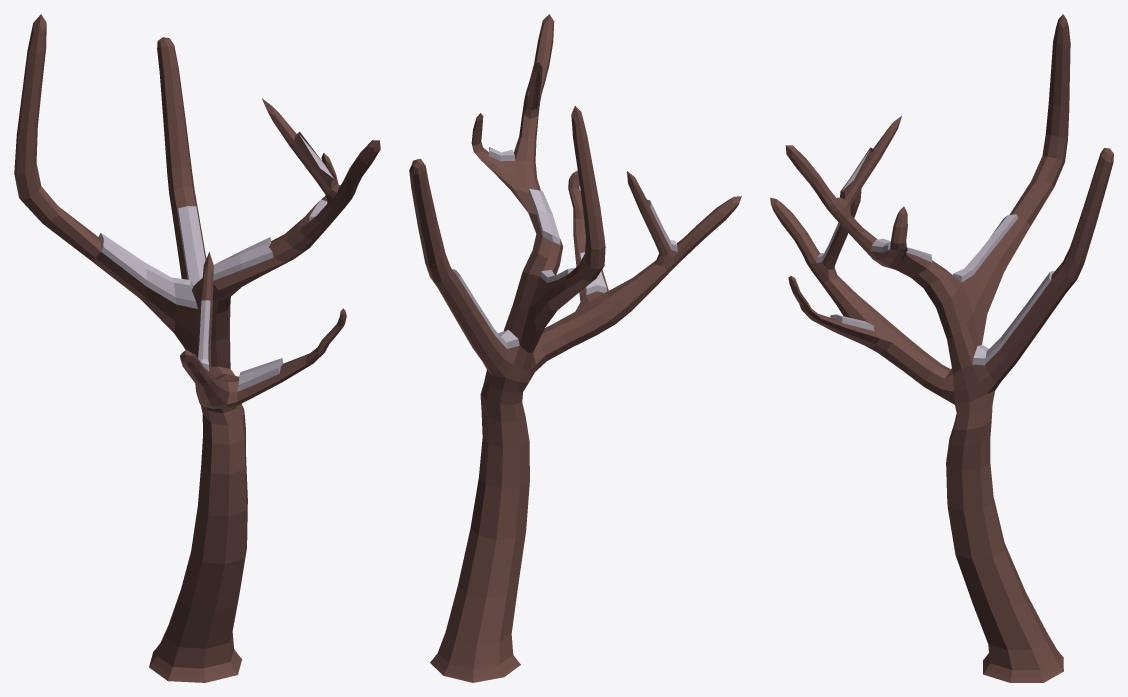
The model's file is commontree_dead_snow_5.glb.
The picture shows the model from 3 angles, left to right: view 1: azimuth 30°, elevation 25°; view 2: azimuth 150°, elevation 25°; view 3: azimuth 270°, elevation 25°; orthographic projection. The views are drawn at different scales.
Parts seen in each view (by area): view 1: CommonTree_Dead_Snow_5; view 2: CommonTree_Dead_Snow_5; view 3: CommonTree_Dead_Snow_5.
Part boxes in pixels (box(x1,y1,x2,y2)): CommonTree_Dead_Snow_5: box(14, 14, 380, 682); CommonTree_Dead_Snow_5: box(409, 14, 741, 682); CommonTree_Dead_Snow_5: box(770, 14, 1113, 682).
Size of the model in its own units: 2.03 by 5.51 by 2.88.
